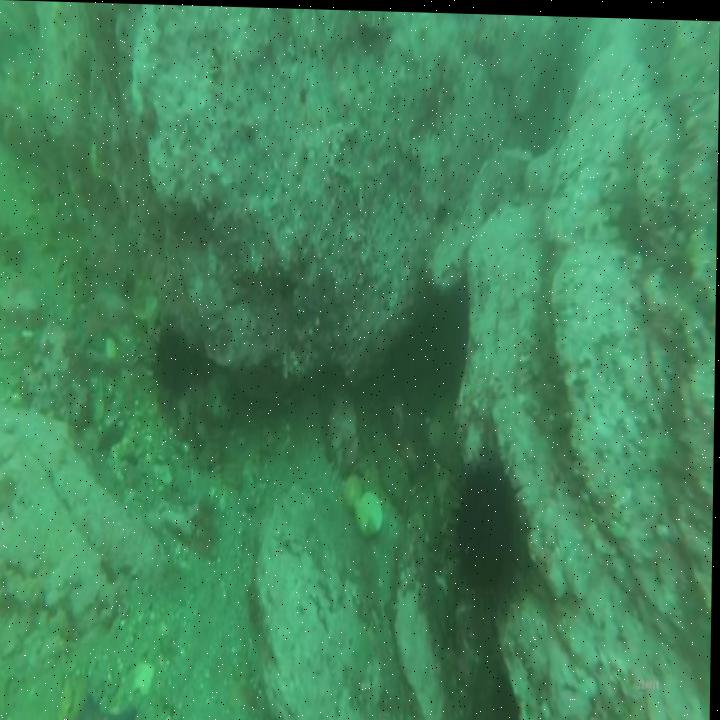echinus: (444, 435, 530, 606), (149, 315, 202, 405)
